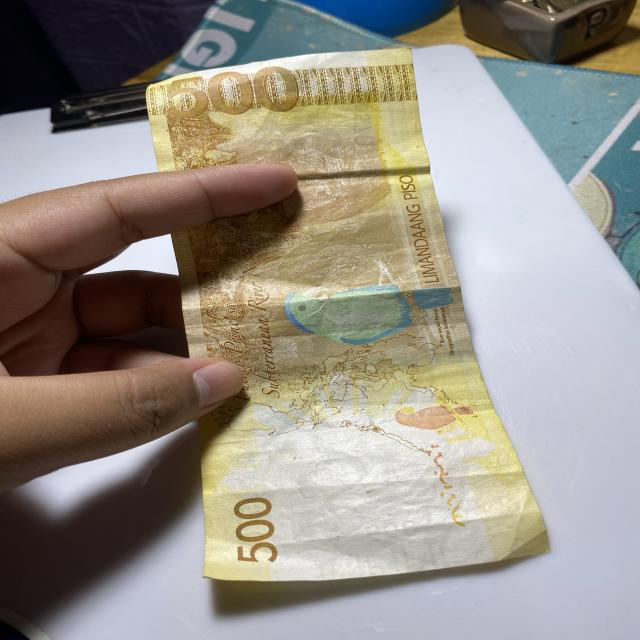500_big_parrot: (283, 280, 458, 348)
500_parrot_watermark: (389, 396, 482, 435)
value_watermark: (363, 516, 424, 547)
